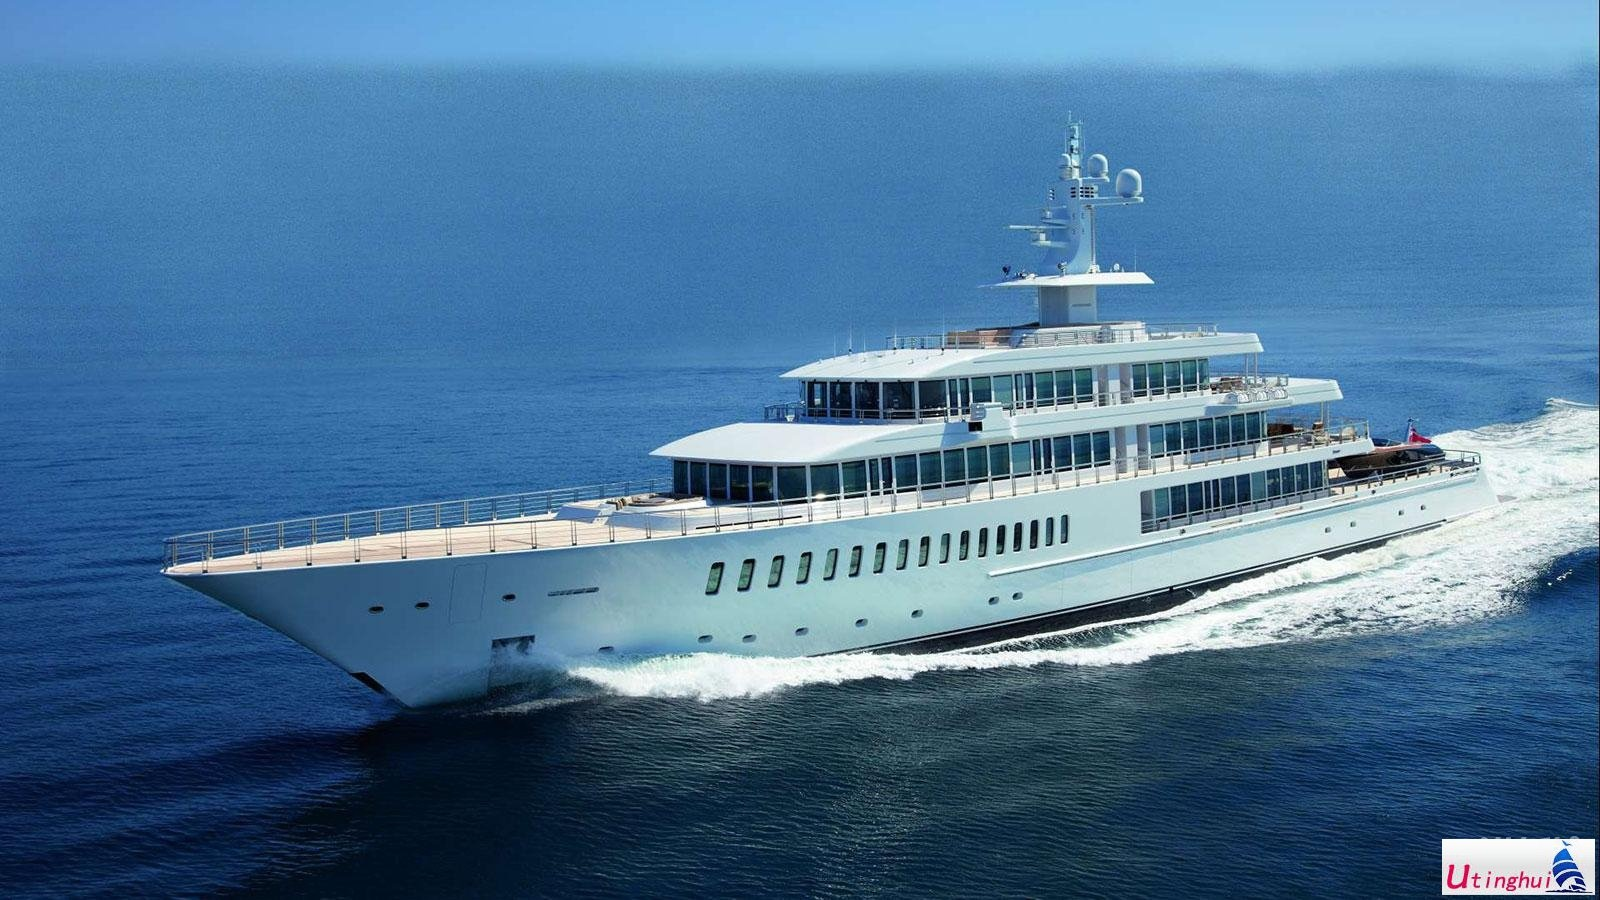yacht: (132, 134, 1499, 682)
